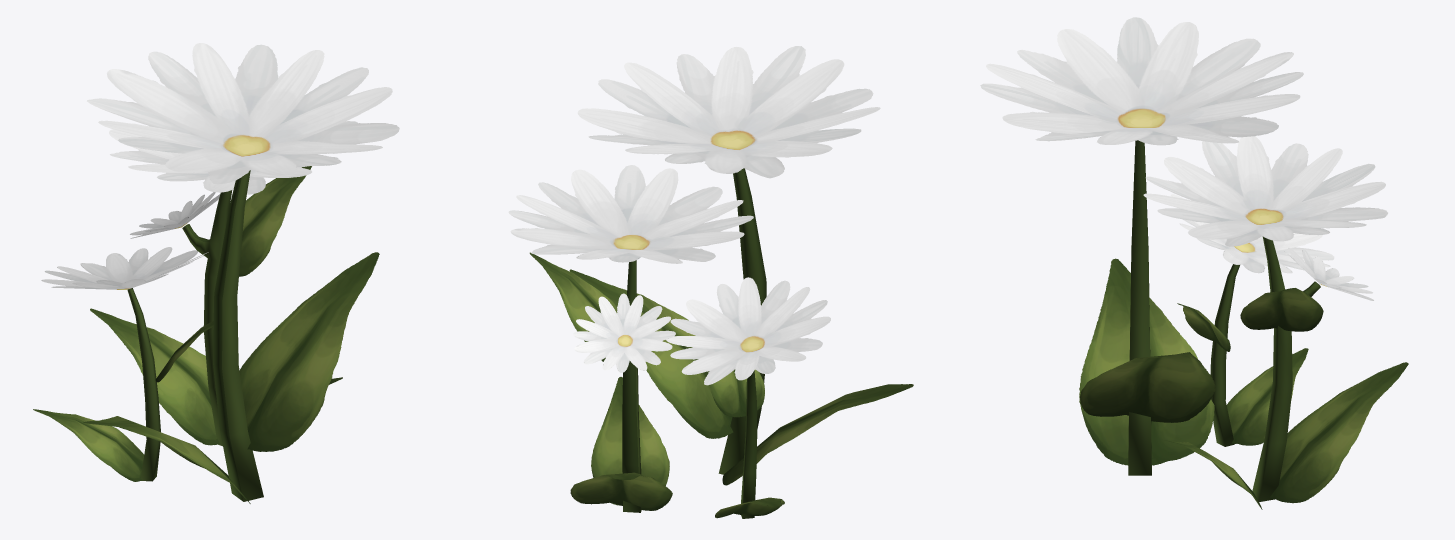
Rendered from Madelief.fbx.
3 renders of one model, left to right at view 1: azimuth 30°, elevation 25°; view 2: azimuth 150°, elevation 25°; view 3: azimuth 270°, elevation 25°, orthographic. The views are drawn at different scales.
Visible parts, largest first — view 1: Plane.018; view 2: Plane.018; view 3: Plane.018.
Part boxes in pixels (bbox=[...]): Plane.018: bbox=[33, 43, 399, 503]; Plane.018: bbox=[508, 46, 913, 518]; Plane.018: bbox=[980, 17, 1408, 509].
Bounding box in the file's own units: 81.27 × 81.39 × 83.87.
